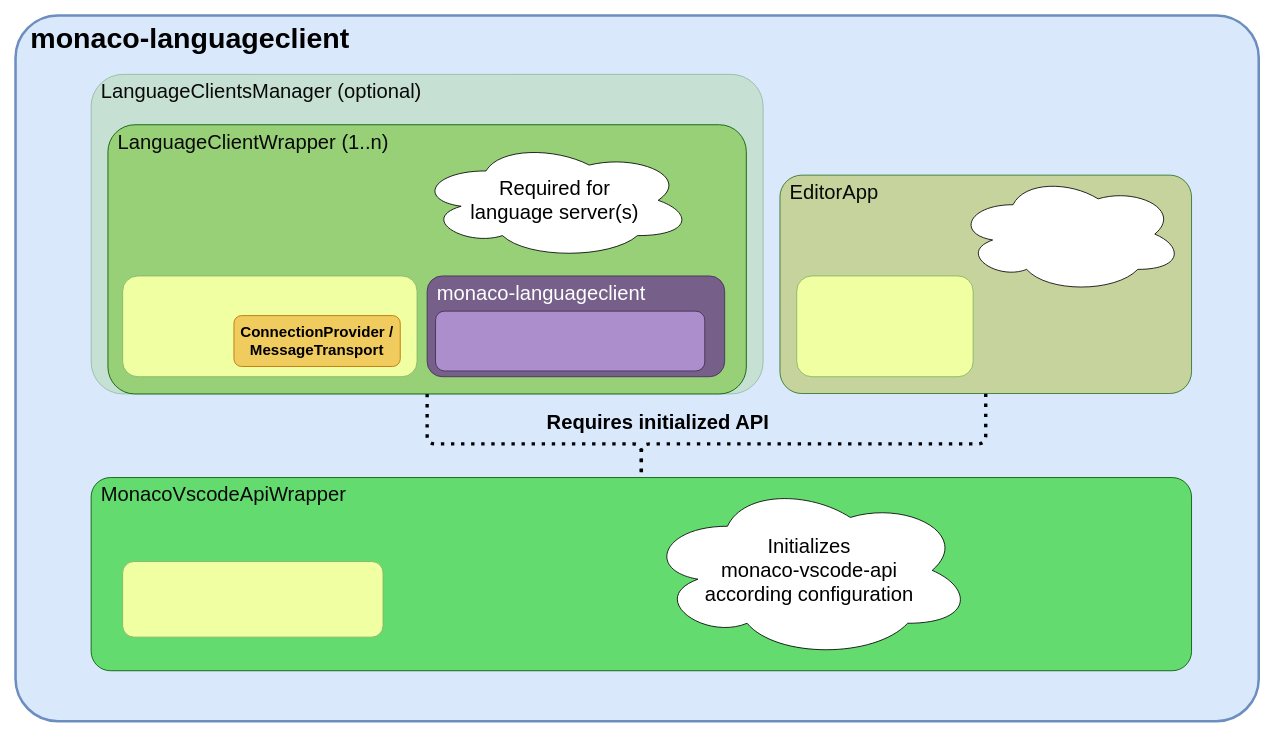
This 1274x737 diagram has some shape labels left out. The box of each missing label's shape, as (x1, y1, x2, y2) in pixels:
EditorAppConfig (optional): (796, 275, 973, 377)
LanguageClientConfig (optional): (122, 275, 417, 377)
MonacoVscodeApiConfig (required): (122, 561, 383, 637)
Required for single editors: (956, 174, 1183, 293)
vscode-languageclient: (435, 310, 705, 371)
